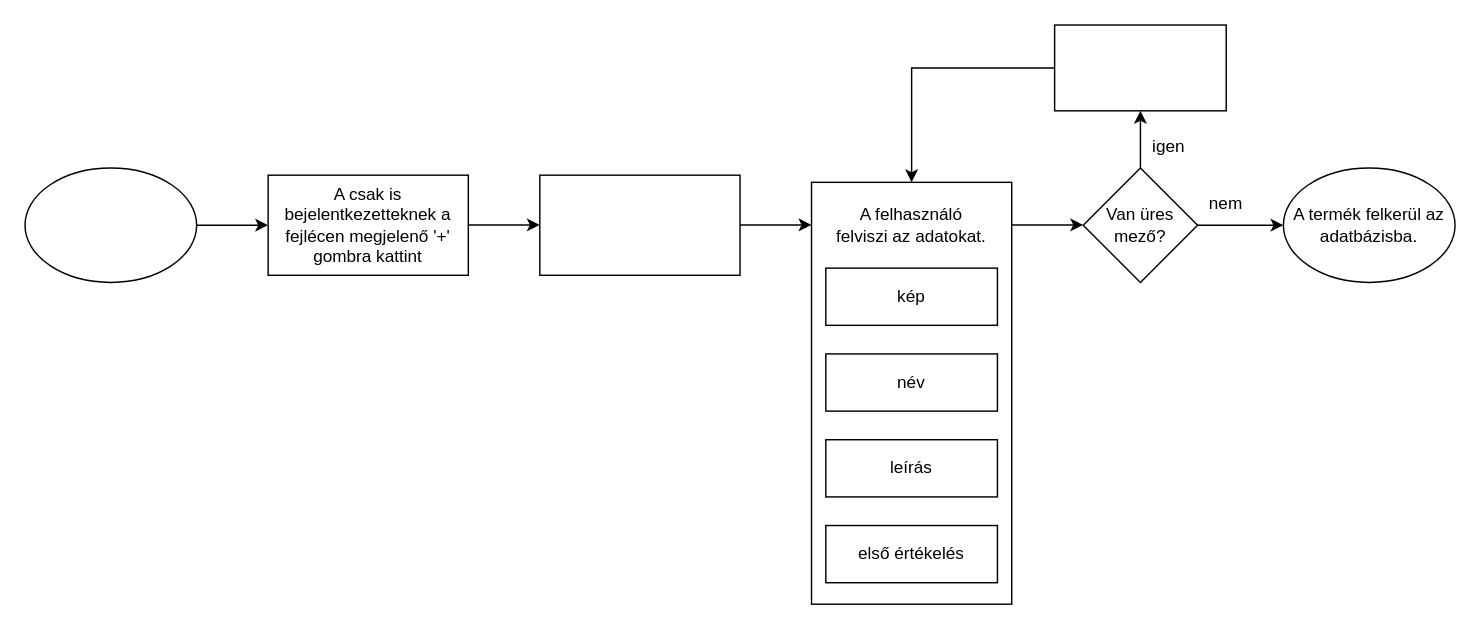
The diagram is 1480 pixels wide and 629 high, and some of its shapes have lost their labels. The centre of each missing label's shape, as x and y in pixels:
"A felhasználó szeretne készíteni egy értékelést" goes at pixel 110 224.
"Deszkriptív hiba üzenet" goes at pixel 1139 67.
"Átirányítódik a hozzáadási ürlapra." goes at pixel 639 224.
